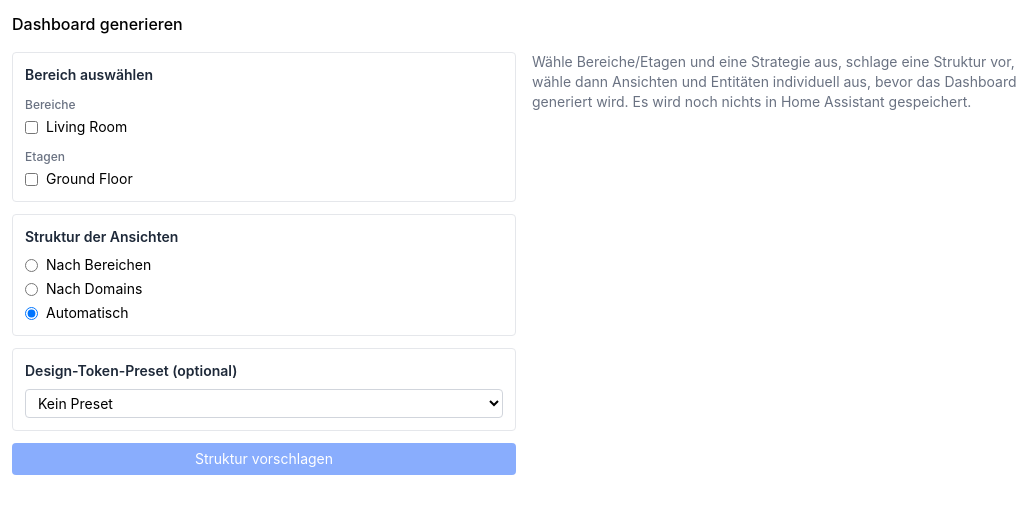
Test: DashboardPage › shows an error message when the structure proposal fails
The width and height of the screenshot is (1033, 522).
Click the checkbox labelled "Living Room" at (32, 127), box [25,120,38,134]
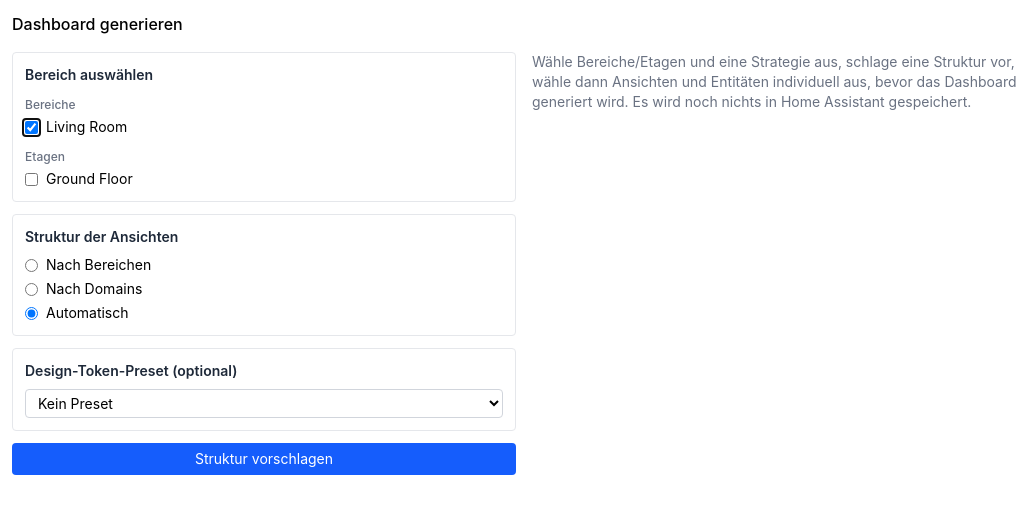
Click the button "Struktur vorschlagen" at (264, 459), box [12,443,516,475]
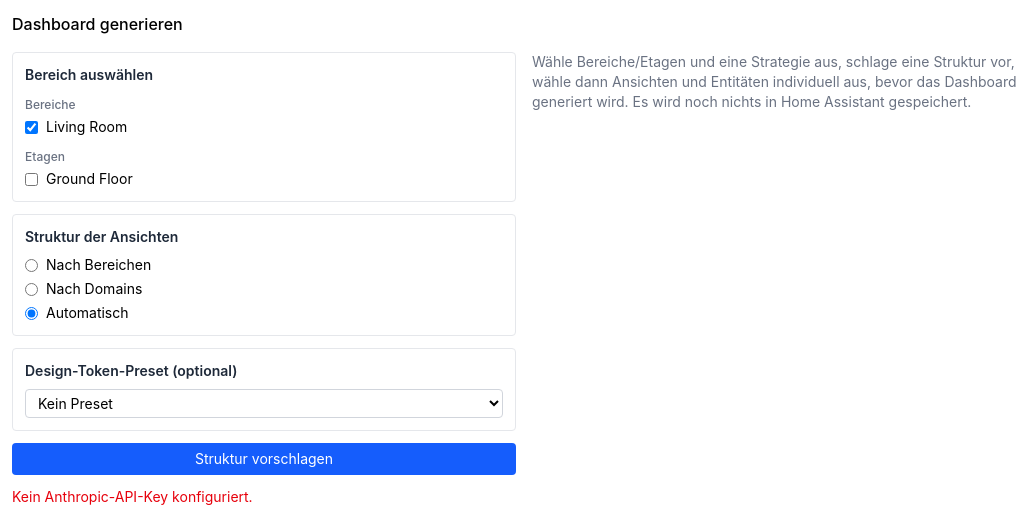
Check: the text "Kein Anthropic-API-Key konfiguriert." is shown, box [12,488,253,505]
